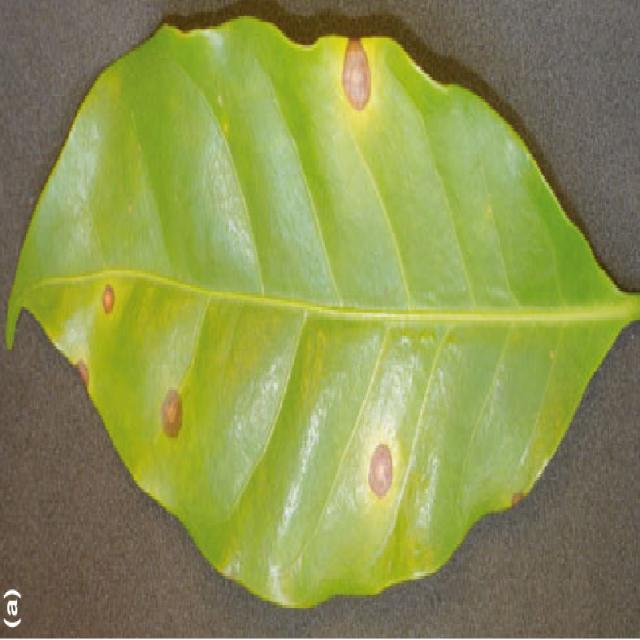Enfermedad-Mancha-de-hierro: (7, 17, 638, 612)
